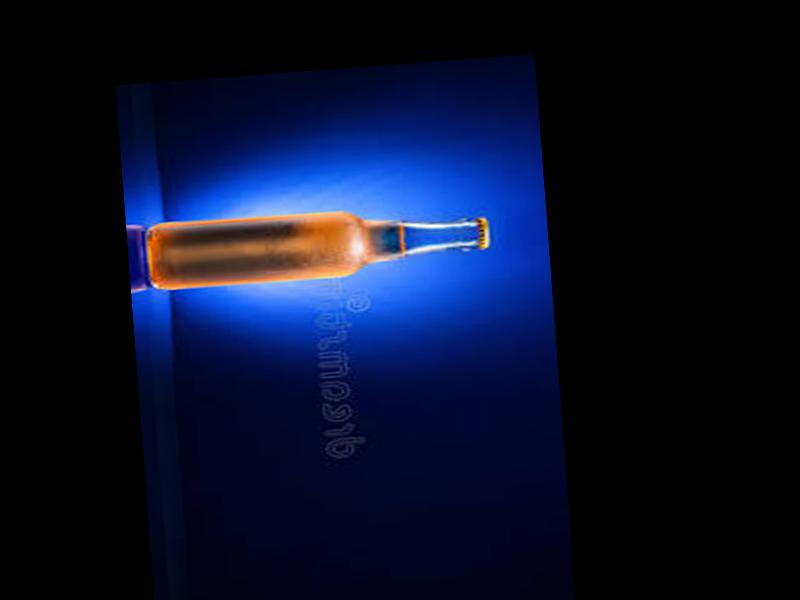Beer: (145, 195, 491, 293)
